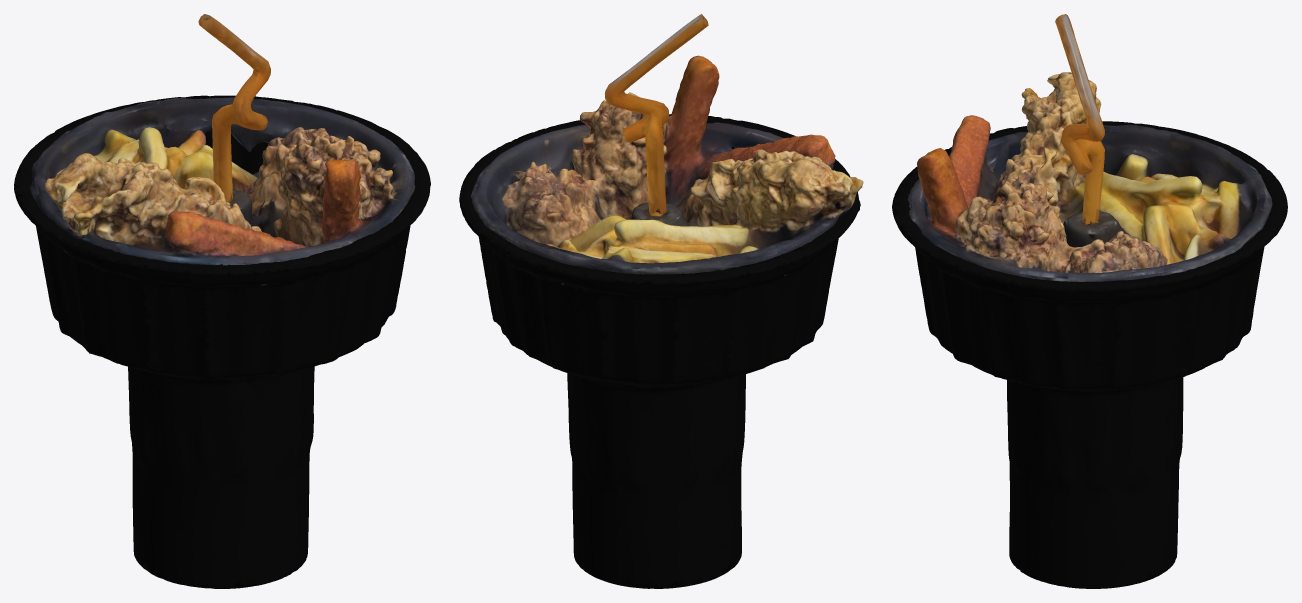
File: combo1.glb
3 renders of one model, left to right at view 1: azimuth 30°, elevation 25°; view 2: azimuth 150°, elevation 25°; view 3: azimuth 270°, elevation 25°, orthographic. The views are drawn at different scales.
Parts seen in each view (by area): view 1: model.002, 3DModel, model.001; view 2: model.002, 3DModel, model.001; view 3: model.002, 3DModel, model.001.
Boxes of the visible parts, x1,y1,x2,y2 form: model.002: [14, 95, 430, 588]; 3DModel: [30, 97, 415, 285]; model.001: [198, 14, 270, 202]; model.002: [459, 114, 860, 588]; 3DModel: [470, 55, 863, 285]; model.001: [605, 14, 708, 214]; model.002: [892, 121, 1287, 588]; 3DModel: [907, 72, 1272, 281]; model.001: [1055, 14, 1104, 224].
Size of the model in its own units: 0.1915 by 0.2791 by 0.1898.
3 materials, 2 textured.
